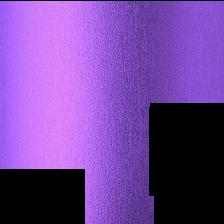purple: (0, 1, 224, 224)
